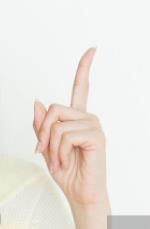up: (29, 43, 111, 189)
